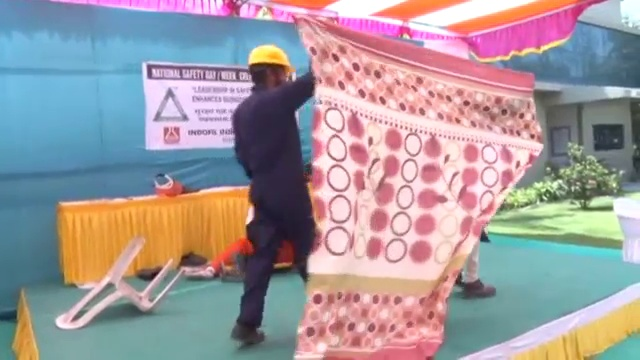helmet: (245, 42, 295, 77)
helmet_on: (245, 42, 296, 90)
person: (225, 43, 315, 348)
